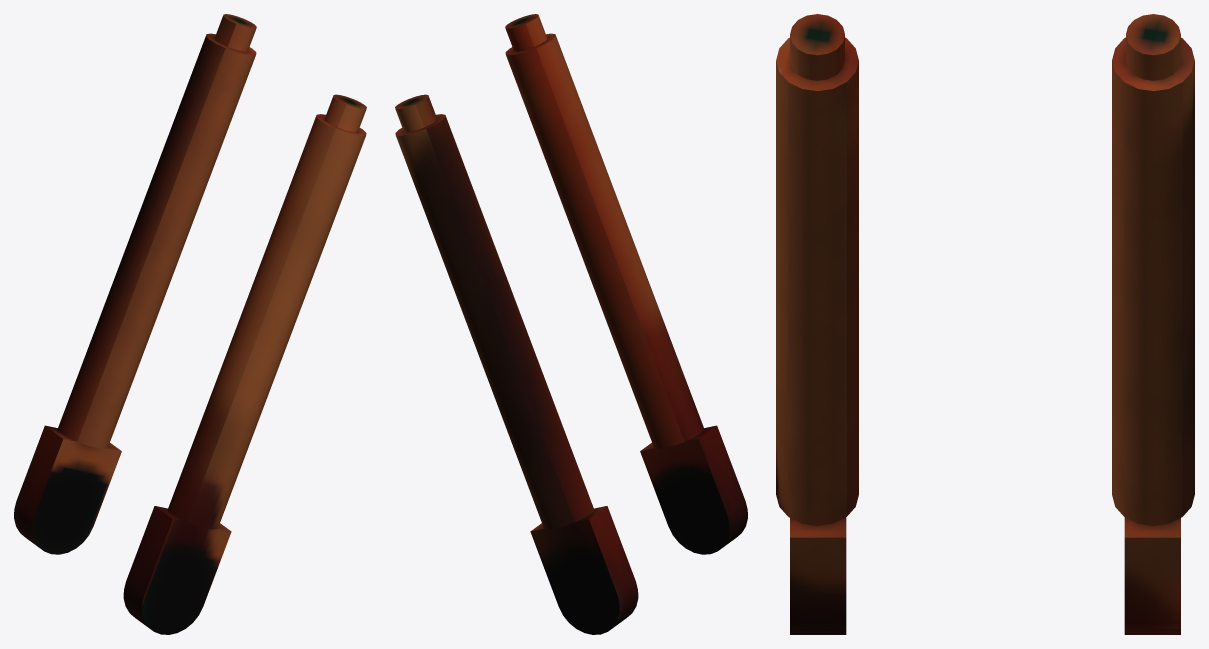
Rendered from zx120-boom-cyl1.dae.
The picture shows the model from 3 angles, left to right: view 1: azimuth 30°, elevation 25°; view 2: azimuth 150°, elevation 25°; view 3: azimuth 270°, elevation 25°; orthographic projection. The views are drawn at different scales.
Parts seen in each view (by area): view 1: bd-bm-R-Cyl; view 2: bd-bm-R-Cyl; view 3: bd-bm-R-Cyl.
Boxes of the visible parts, x1,y1,x2,y2 form: bd-bm-R-Cyl: (14,14,366,634); bd-bm-R-Cyl: (395,14,747,634); bd-bm-R-Cyl: (776,14,1194,634).
Bounding box in the file's own units: 0.6648 × 0.6828 × 1.34.
1 material, 1 textured.
